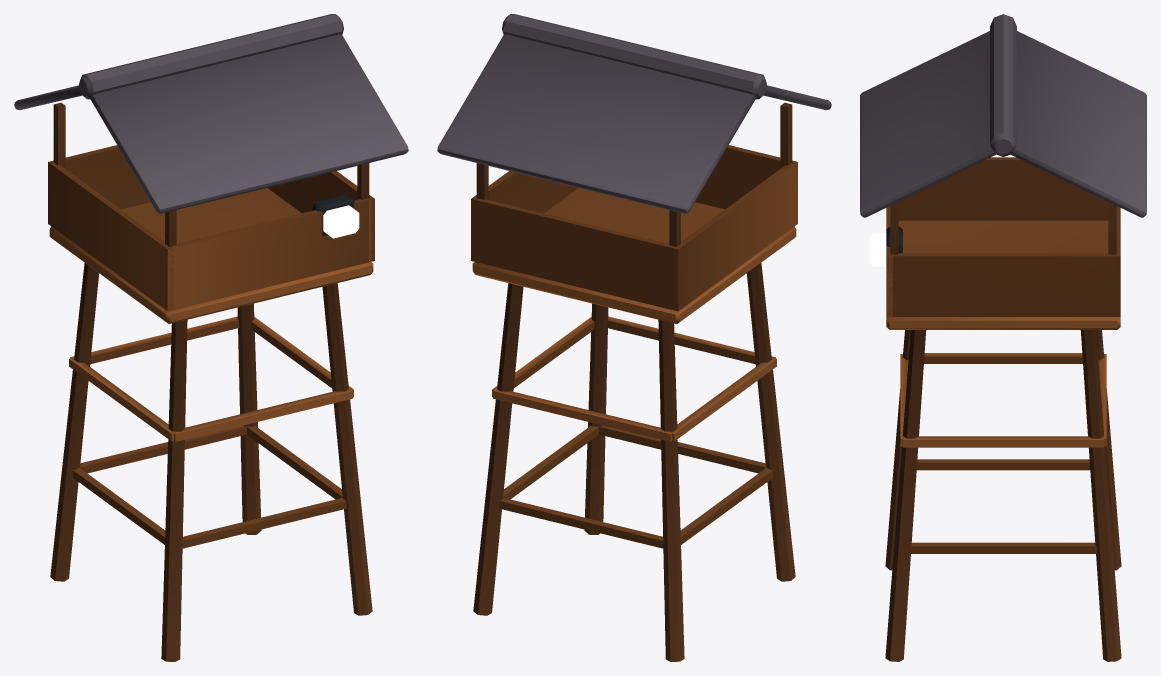
File: sv_tower.glb
3 views of the same model, side by side, from view 1: azimuth 30°, elevation 25°; view 2: azimuth 150°, elevation 25°; view 3: azimuth 270°, elevation 25° (orthographic). The views are drawn at different scales.
Parts seen in each view (by area): view 1: body, lamp_glow; view 2: body; view 3: body, lamp_glow.
Boxes of the visible parts, bbox=[...] form: body: bbox=[14, 14, 408, 661]; lamp_glow: bbox=[323, 205, 359, 238]; body: bbox=[437, 14, 831, 661]; body: bbox=[860, 14, 1146, 661]; lamp_glow: bbox=[869, 233, 886, 266].
Size of the model in its own units: 3.46 by 7.12 by 3.42.
